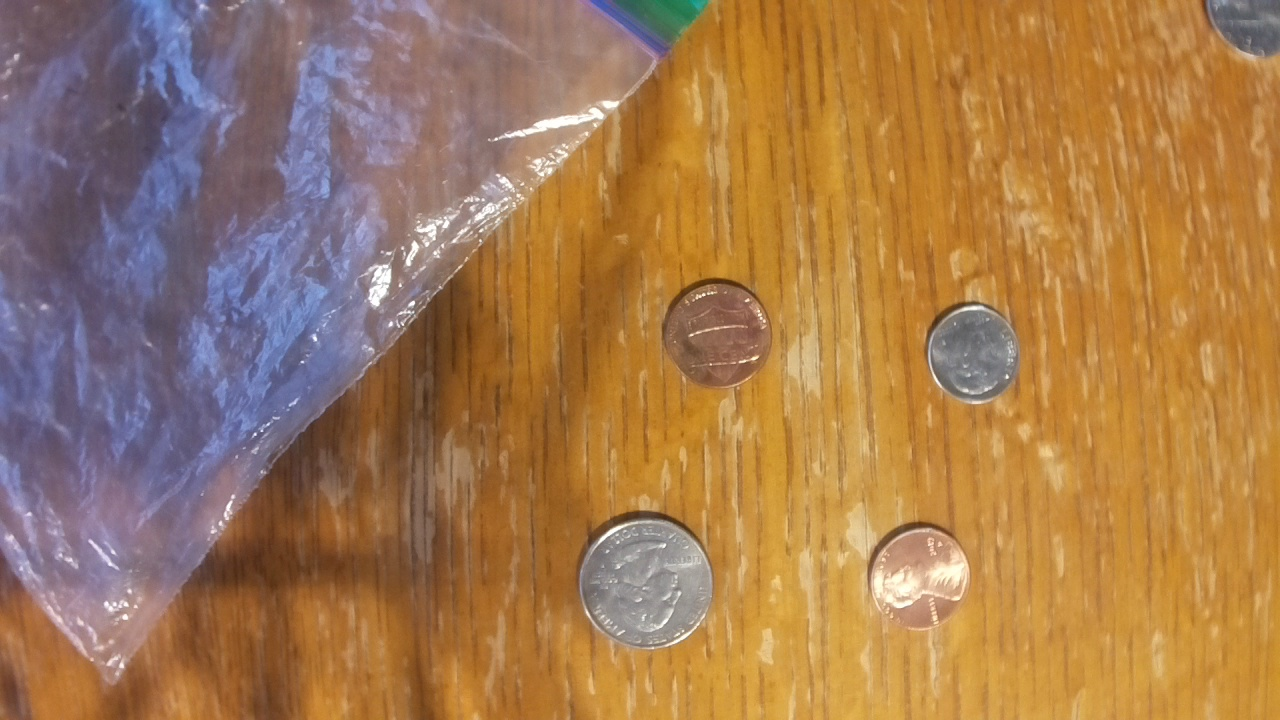dime: (925, 304, 1020, 405)
penny: (663, 280, 774, 390), (867, 524, 973, 634)
quarter: (577, 514, 715, 649)
